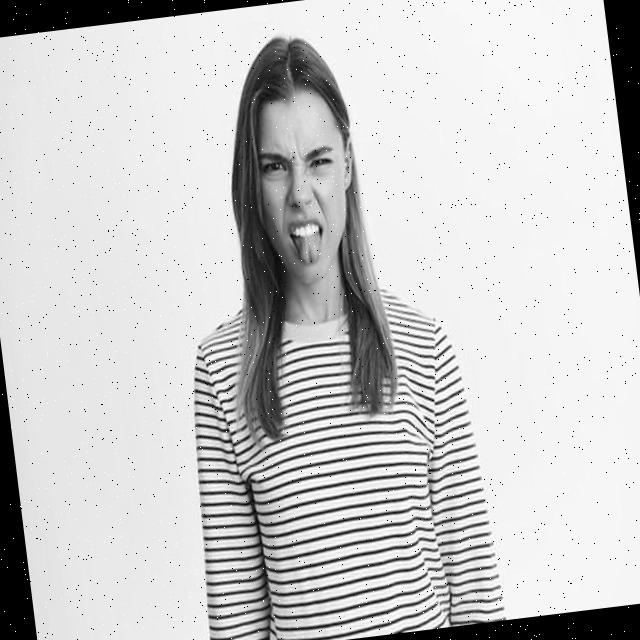Disgust: (242, 84, 360, 290)
